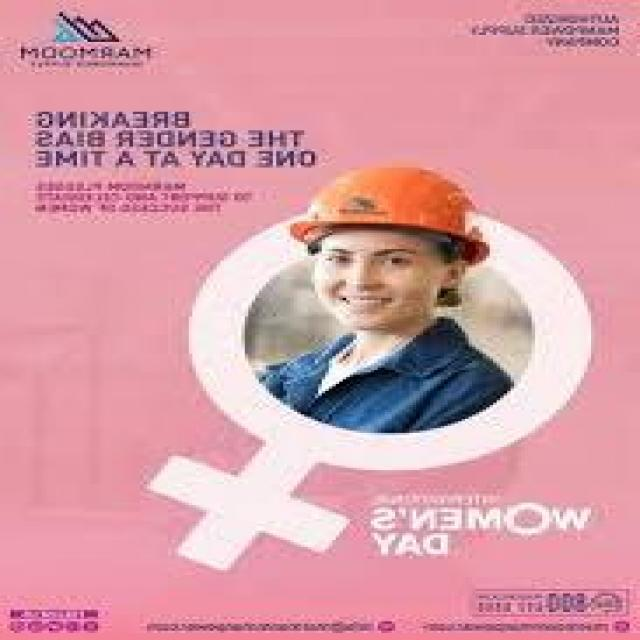Safety-Helmet: (269, 154, 507, 260)
